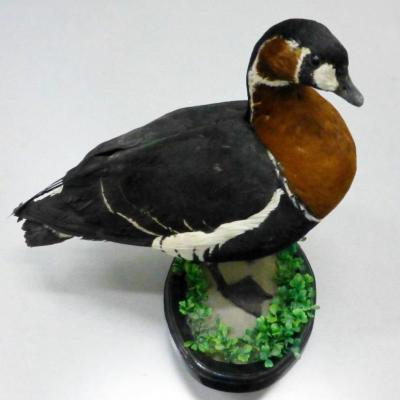natural_science_collection: (12, 19, 365, 318)
